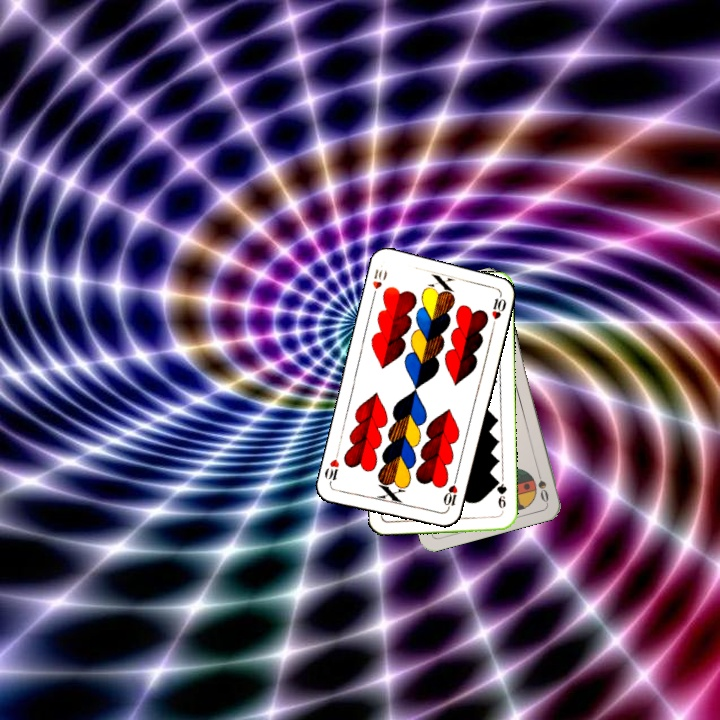G9: (492, 475, 509, 511)
H10: (439, 474, 460, 514), (368, 264, 390, 301)
SO: (533, 464, 551, 505)
